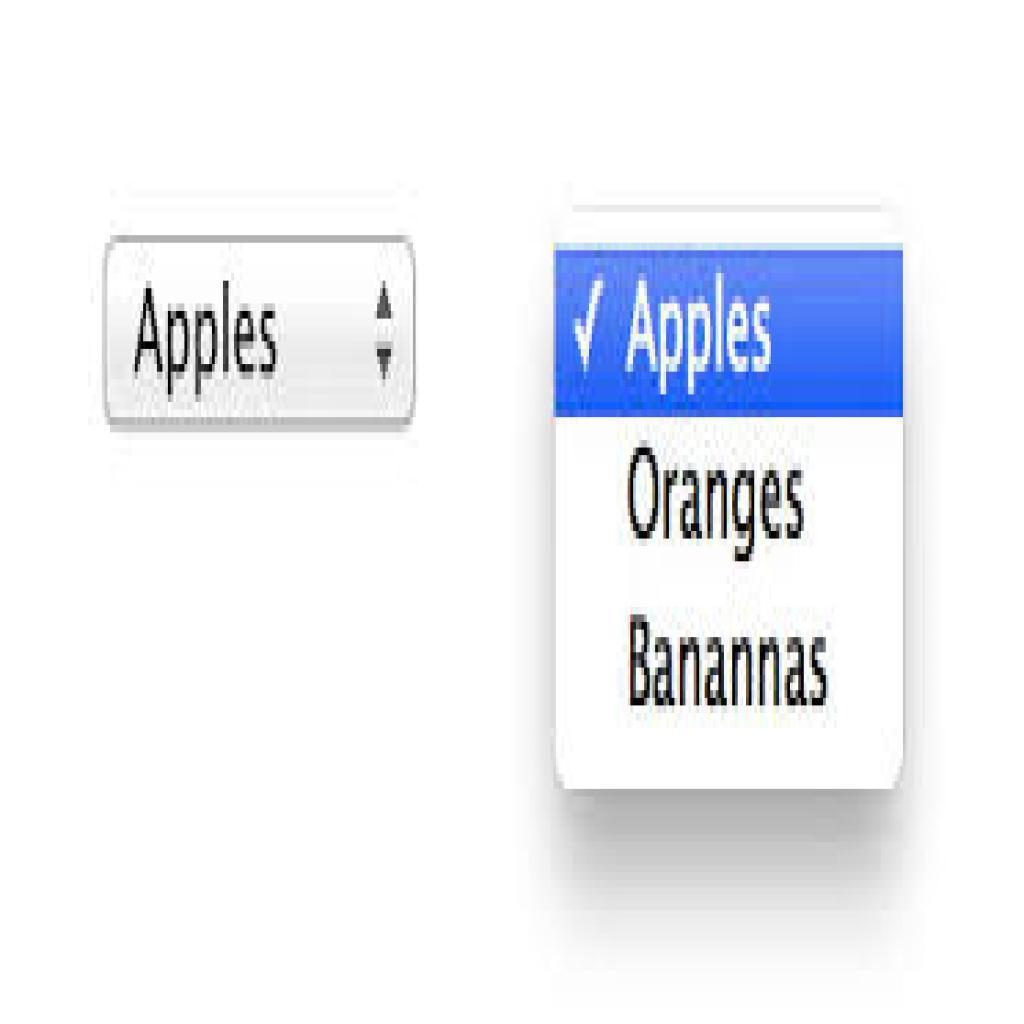button: (554, 242, 904, 419)
dropdown: (104, 236, 417, 435)
label: (617, 435, 818, 566), (622, 605, 843, 719)
